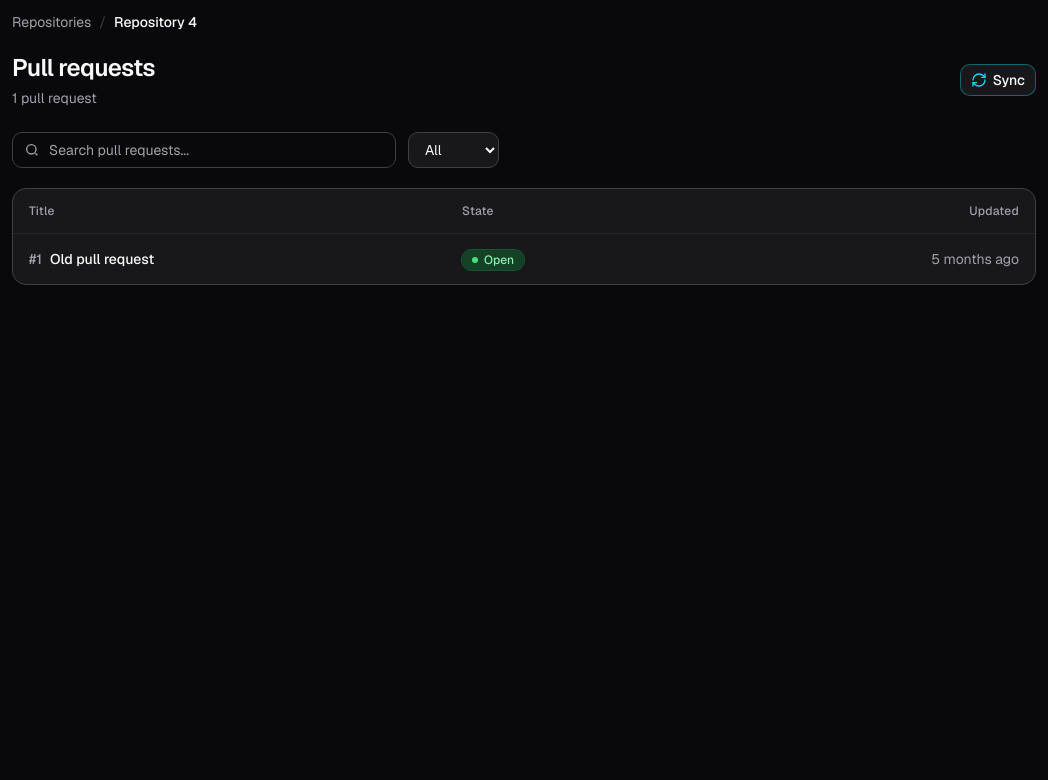
Test: sync writes the query cache for the active list › replaces the pull request cache for that repository
expect the text "Old pull request" is shown: met, box 50,248 -> 154,268
Click the button with aria-label "Sync pull requests".
click(998, 80)  # box 960,64 -> 1036,96
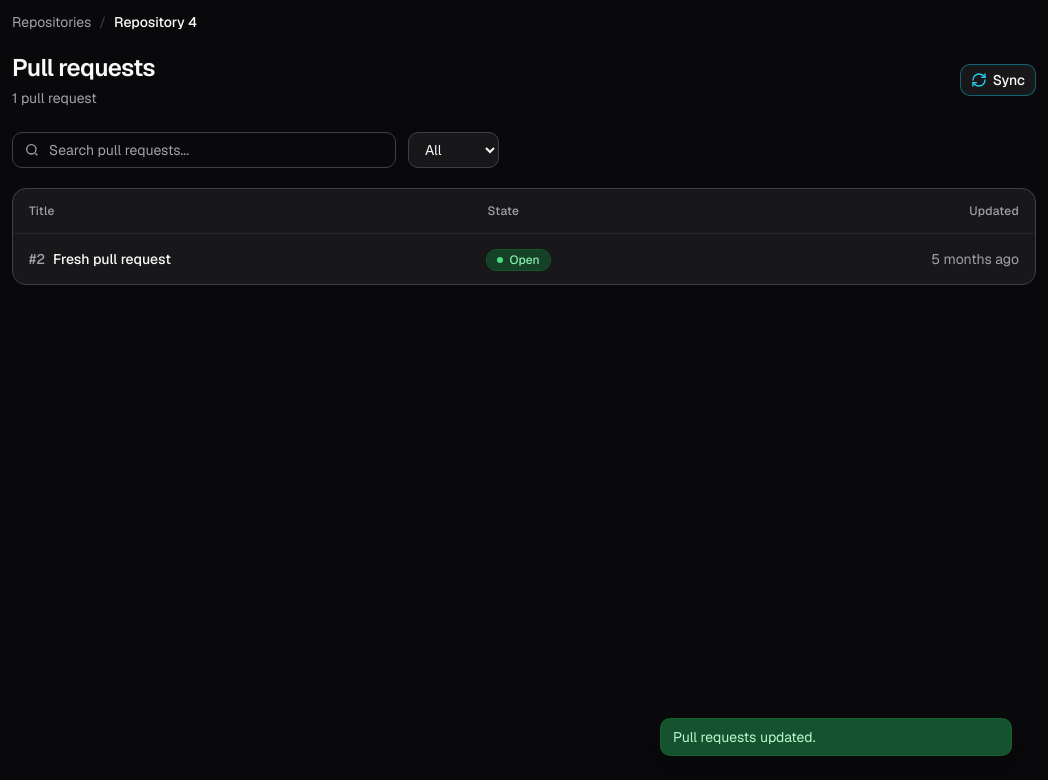
expect the text "Fresh pull request" is shown: met, box 53,248 -> 171,268
expect the link "Old pull request" is gone: met
